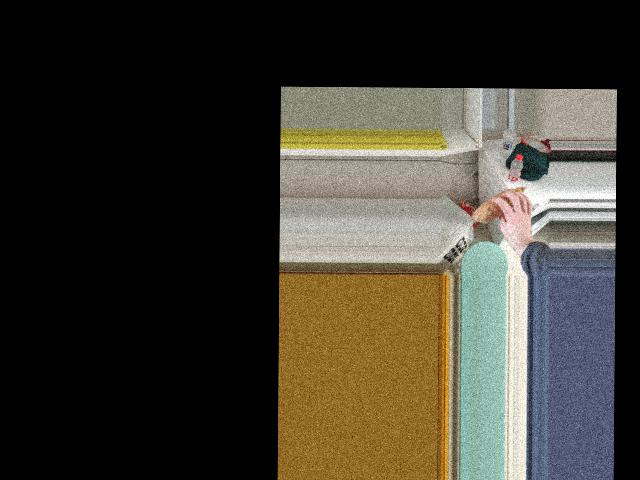sweet_potato: (474, 188, 528, 223)
